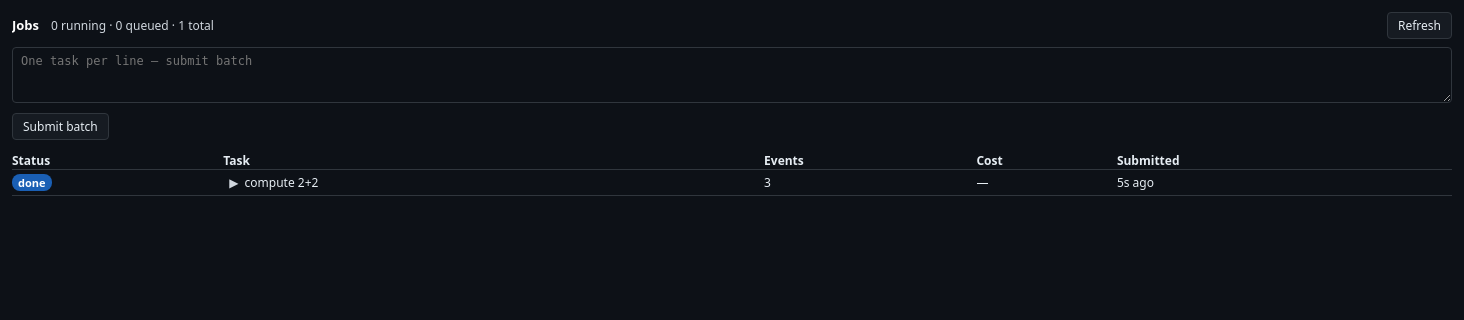
JobsPanel › expands a row and shows the final answer + event count from /jobs/:id
Click the button with test id "jobs-toggle-answered-1" at {"x": 274, "y": 182}, box [223,170,324,195]
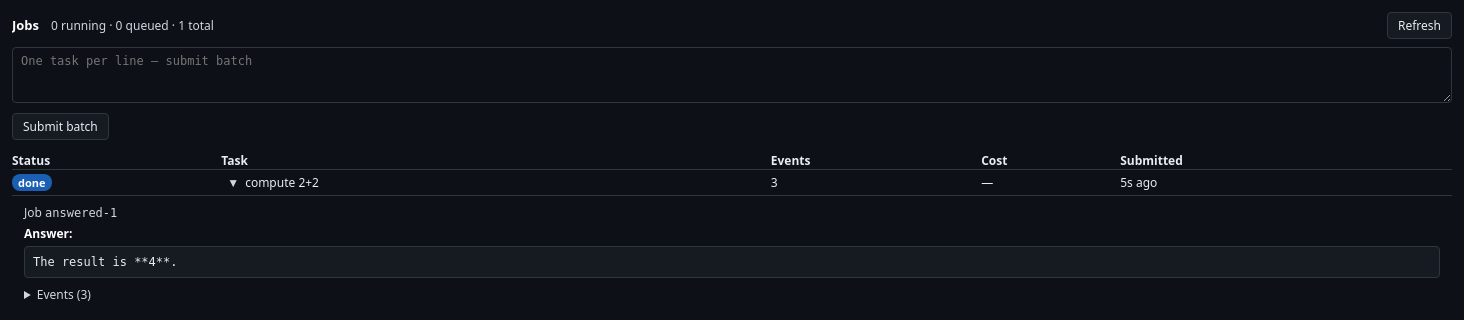
Expected: the element with test id "jobs-detail-answered-1" is shown, [24,204,1440,303]
Expected: the text "The result is **4**." is shown, [24,246,1440,278]
